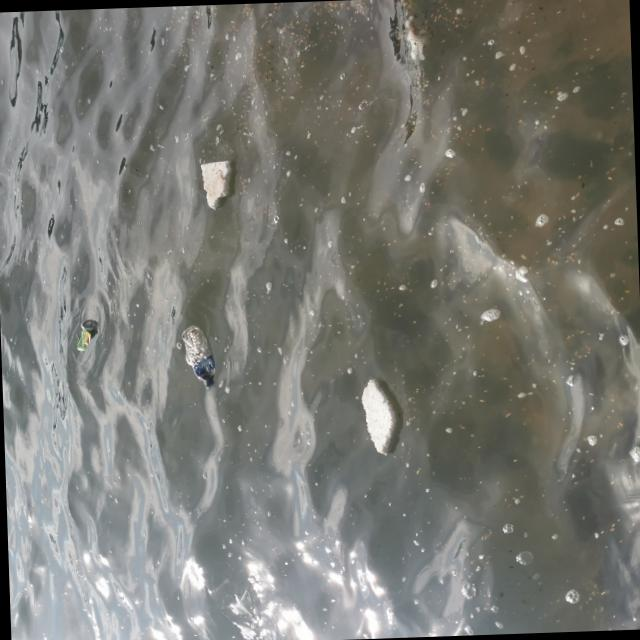can: (74, 317, 100, 348)
foam: (360, 377, 400, 454), (198, 158, 236, 209)
plastic: (180, 322, 214, 388)
